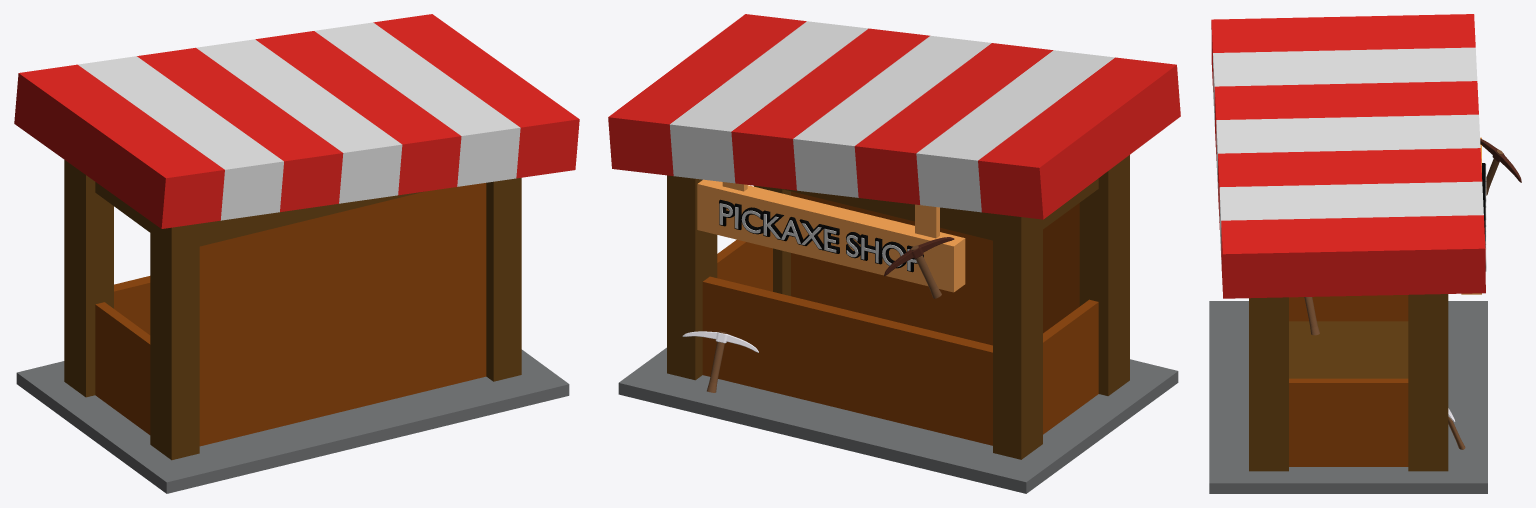
The model's file is PickaxeShop.fbx.
3 views of the same model, side by side, from view 1: azimuth 30°, elevation 25°; view 2: azimuth 150°, elevation 25°; view 3: azimuth 270°, elevation 25° (orthographic). The views are drawn at different scales.
Visible parts, largest first — view 1: Cube; view 2: Cube, Text, Text.001; view 3: Cube, Cube.002.
Boxes of the visible parts, left/top/right/bottom form: Cube: left=14, top=14, right=579, bottom=493; Cube: left=608, top=14, right=1180, bottom=493; Text: left=719, top=199, right=923, bottom=272; Text.001: left=719, top=203, right=916, bottom=270; Cube: left=1209, top=14, right=1487, bottom=493; Cube.002: left=1480, top=138, right=1521, bottom=182.
Bounding box in the file's own units: 1458 × 1030 × 989.
